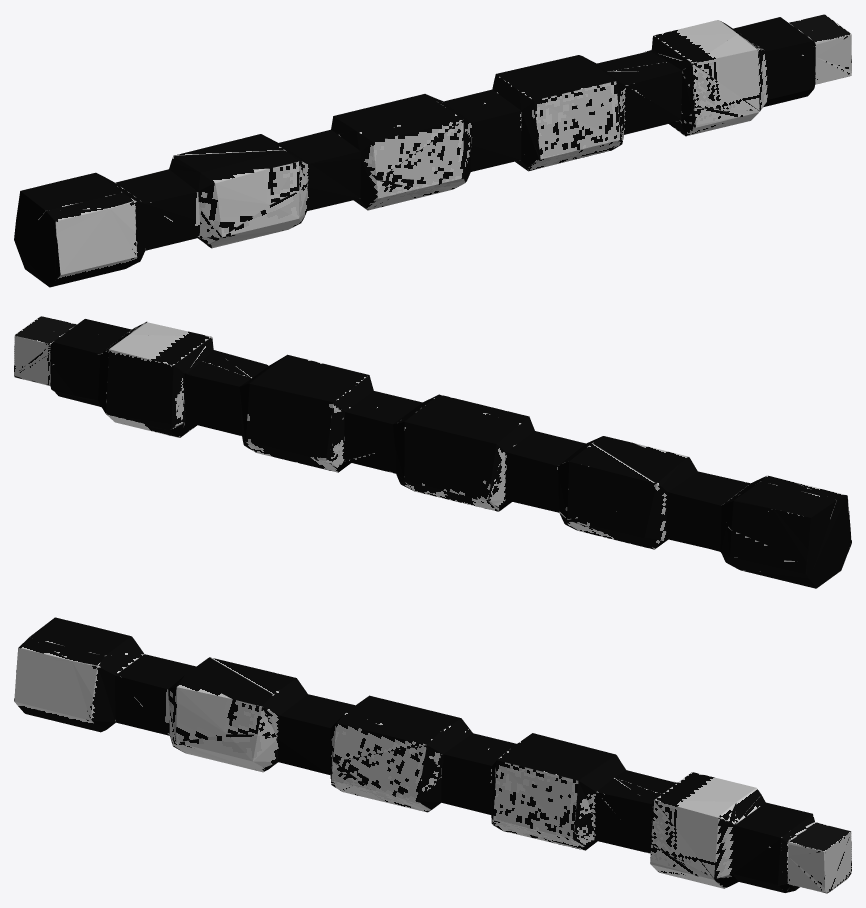
3 views of the same model, one above another, from view 1: azimuth 30°, elevation 25°; view 2: azimuth 150°, elevation 25°; view 3: azimuth 330°, elevation 25° (orthographic).
Visible parts, largest first — view 1: OBJ09b; view 2: OBJ09b; view 3: OBJ09b.
Part boxes in pixels (bbox=[...]): OBJ09b: bbox=[14, 14, 851, 287]; OBJ09b: bbox=[14, 316, 851, 588]; OBJ09b: bbox=[14, 617, 851, 893].
Bounding box in the file's own units: 0.3421 × 0.032 × 0.0349.
Materials: 1 (1 with a texture image).
